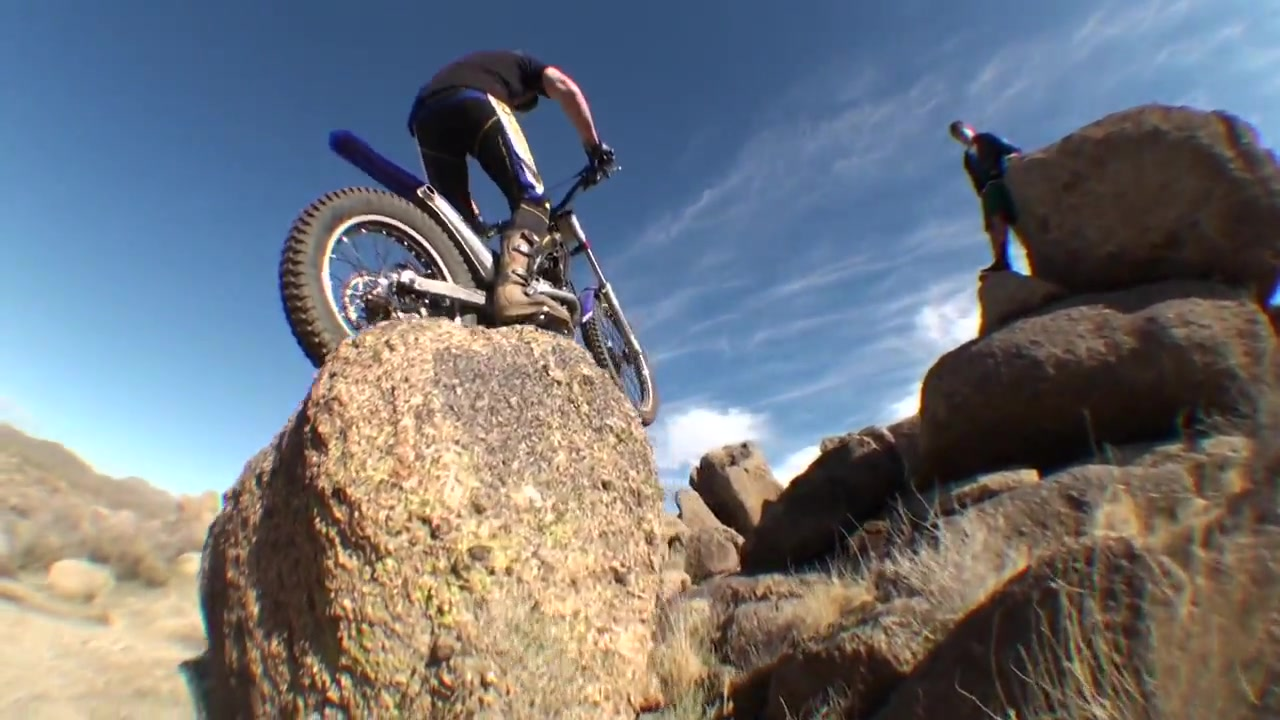motorbike: (274, 127, 662, 428)
